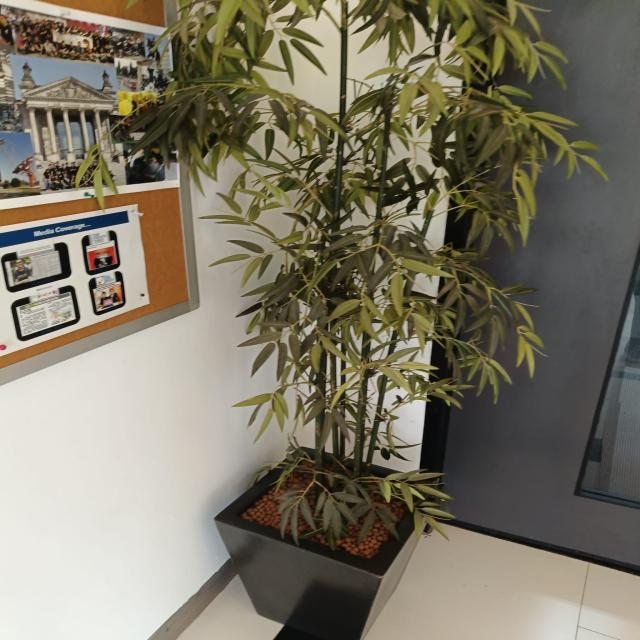Pot: (211, 444, 446, 640)
